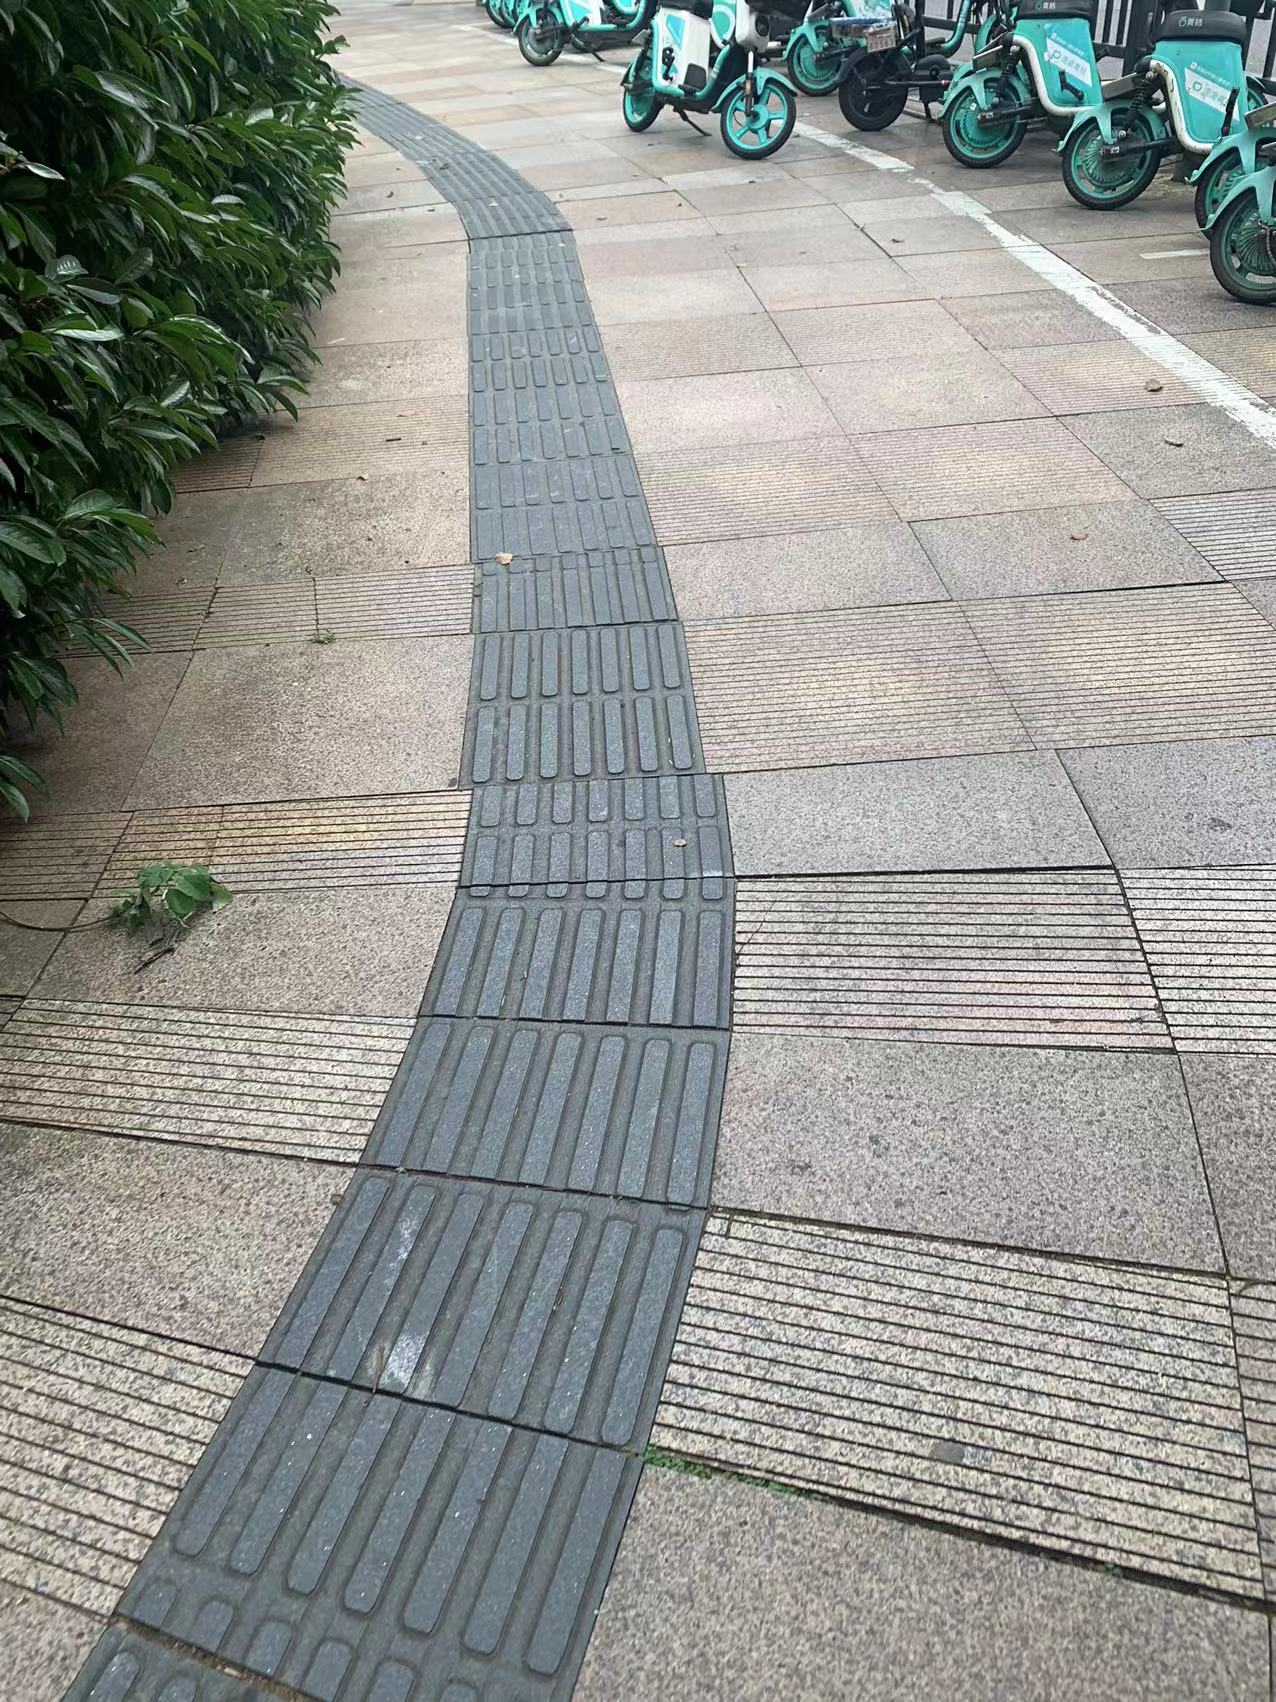leaf: (487, 544, 520, 571)
